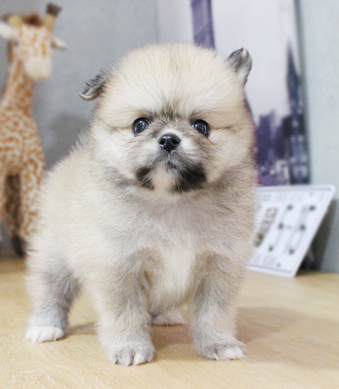pomeranian: (28, 36, 284, 373)
